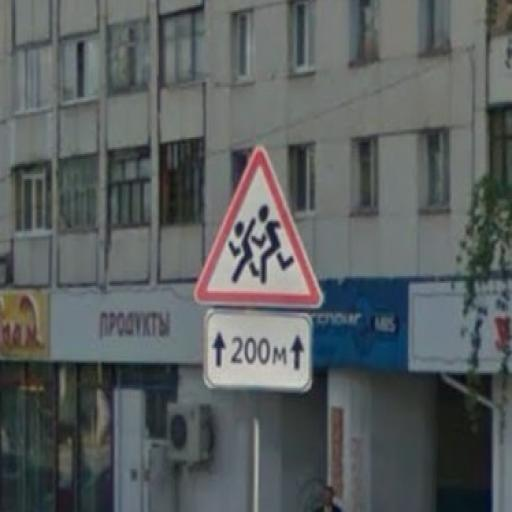traffic_sign: (191, 140, 328, 315)
